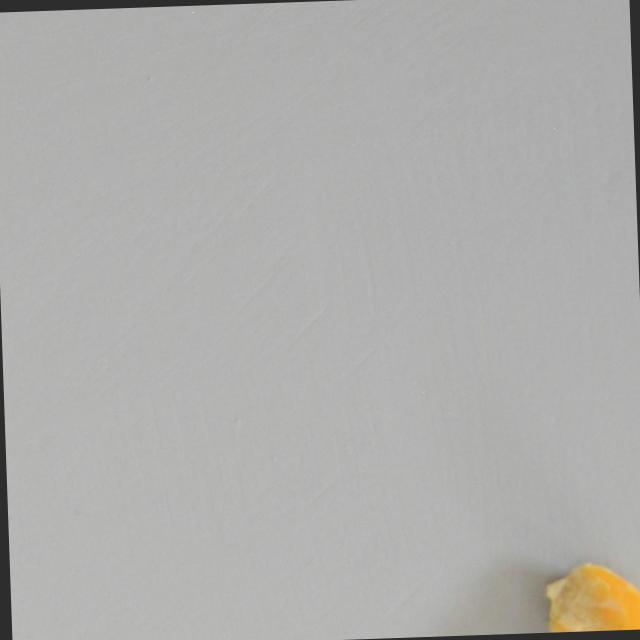dañado: (534, 548, 640, 633)
